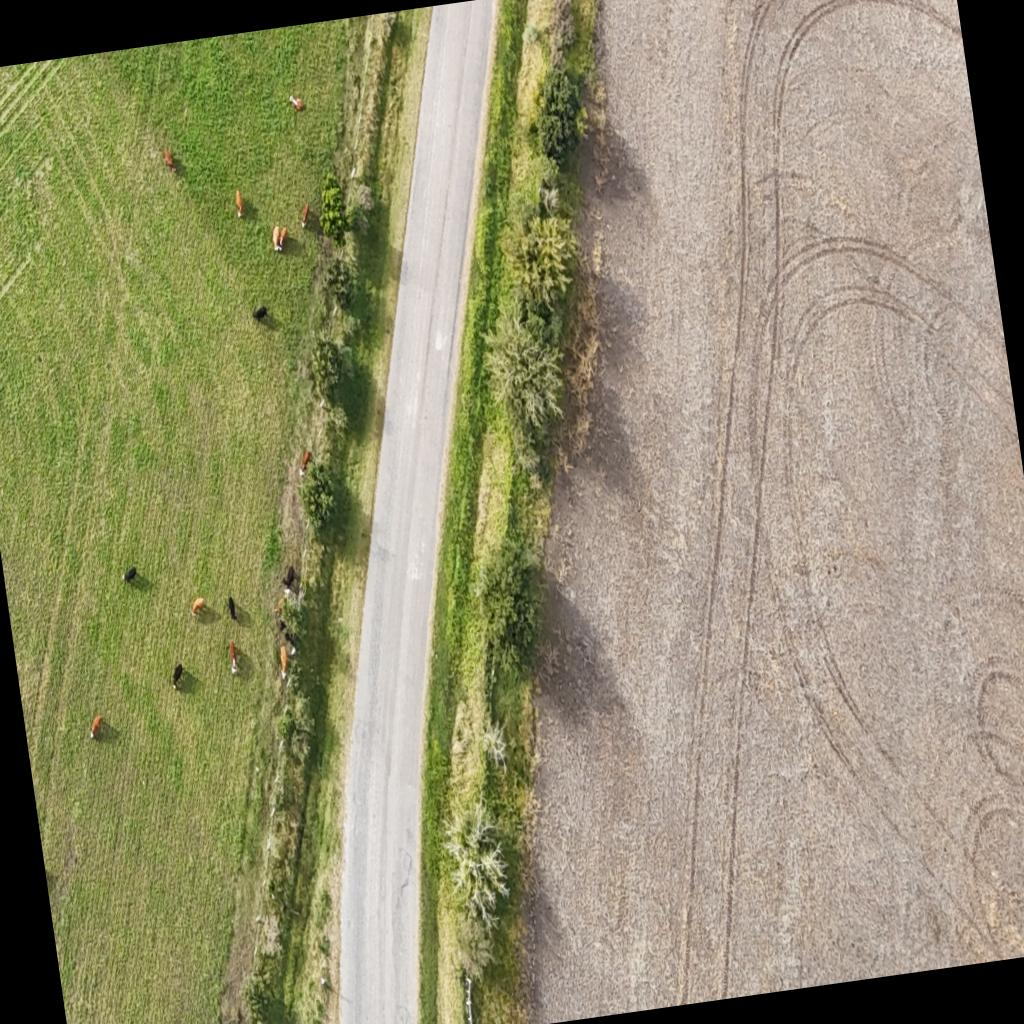cow: (277, 624, 298, 658), (277, 644, 291, 681), (226, 640, 240, 676), (280, 564, 298, 592), (88, 714, 106, 741), (169, 662, 186, 690), (298, 450, 314, 477), (298, 202, 313, 230), (271, 224, 284, 255), (162, 146, 176, 174), (233, 188, 245, 220), (276, 225, 290, 252), (190, 596, 208, 617), (288, 93, 306, 112), (274, 598, 288, 622), (122, 566, 139, 585), (252, 304, 268, 322), (227, 596, 238, 622)
